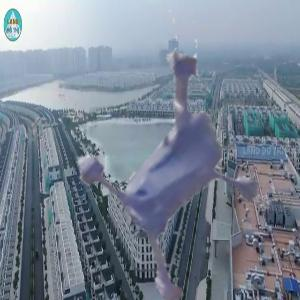drone: (25, 4, 300, 279)
